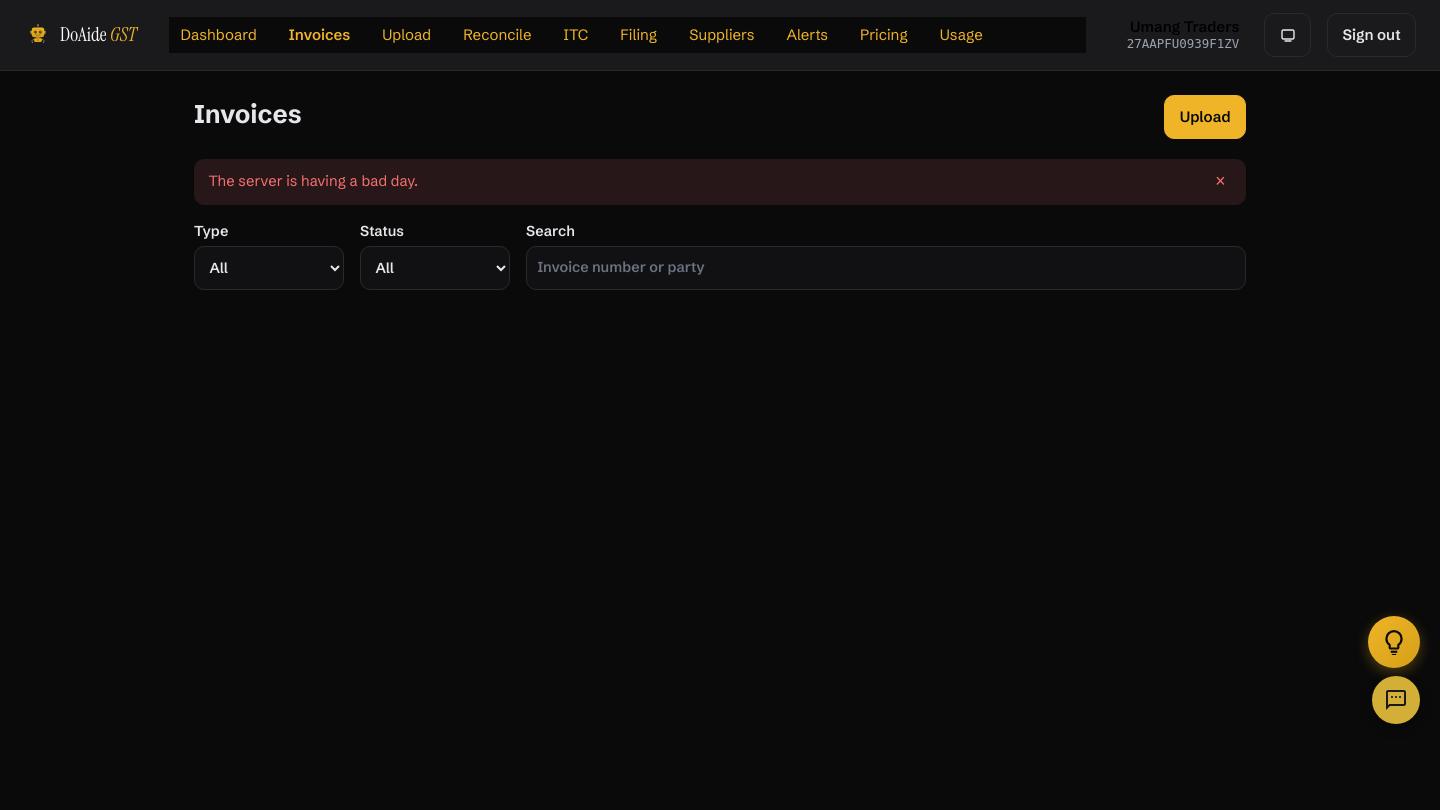
Test: dismissing the error a page reports › /invoices lets the user close it
Click the button named "Dismiss": x=1220, y=182 [1209,170,1232,193]
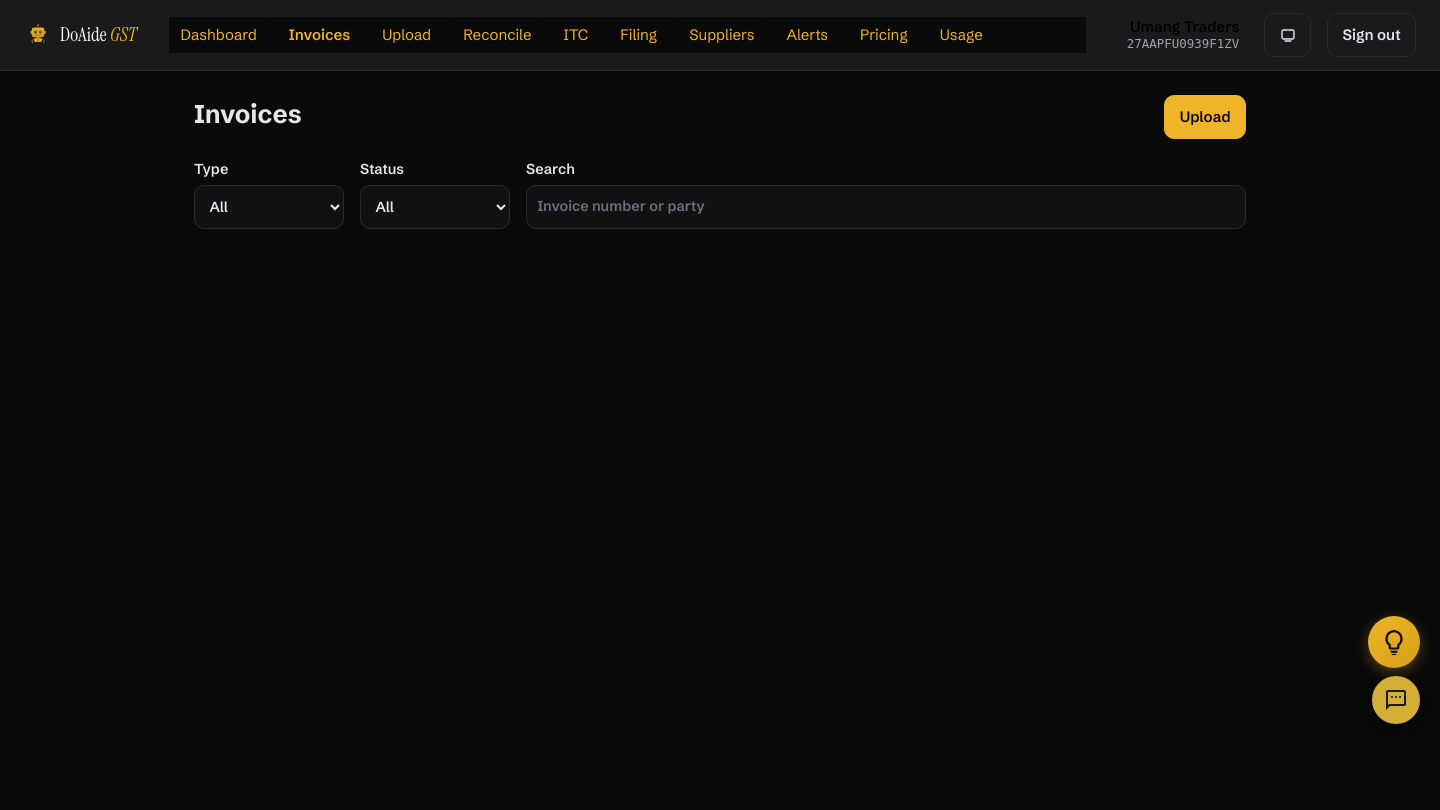
Check: the link "Invoices" is shown, box [277,17,362,53]
Check: the message "The server is having a bad day. ×" is gone
